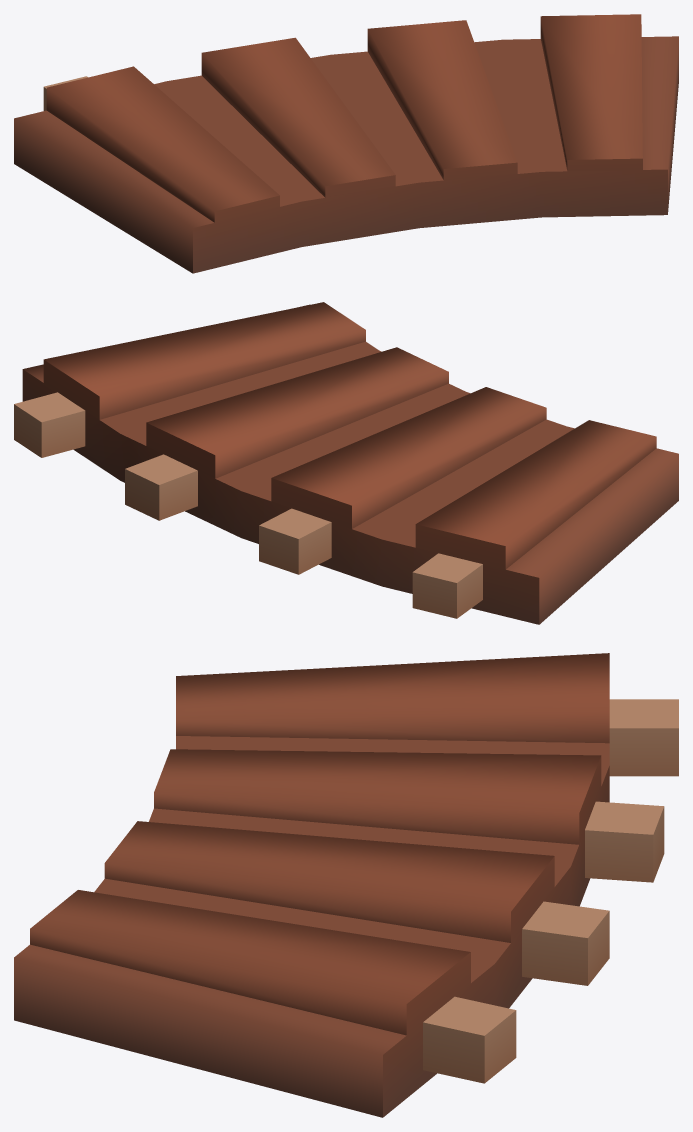
File: meat-ribs.glb
3 renders of one model, top to bottom at view 1: azimuth 30°, elevation 25°; view 2: azimuth 150°, elevation 25°; view 3: azimuth 270°, elevation 25°, orthographic. The views are drawn at different scales.
Parts seen in each view (by area): view 1: meat-ribs; view 2: meat-ribs; view 3: meat-ribs.
Boxes of the visible parts, x1,y1,x2,y2 form: meat-ribs: (14,14,678,273); meat-ribs: (14,302,678,624); meat-ribs: (14,653,678,1117).
Bounding box in the file's own units: 0.5354 × 0.06 × 0.3834.
